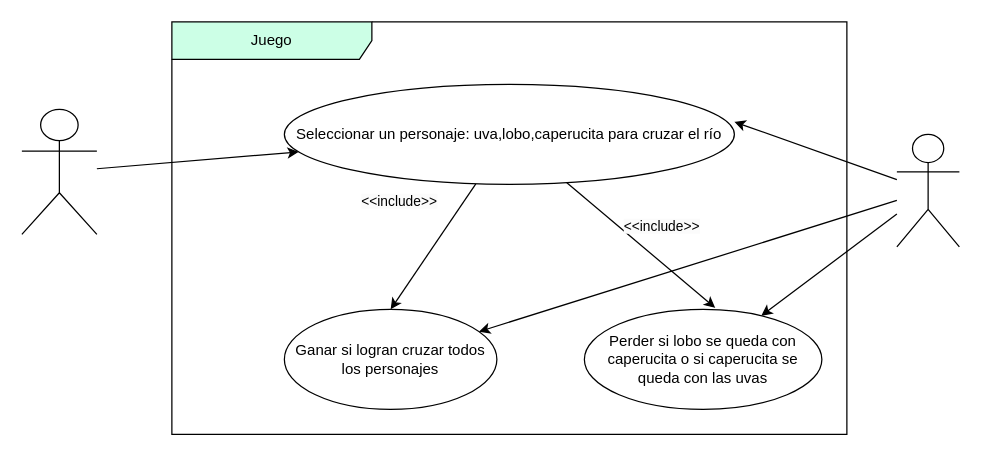
This 981x456 diagram has some shape labels left out. Each missing label, with the box of its shape:
App: (896, 133, 959, 247)
Usuario: (21, 108, 97, 234)
